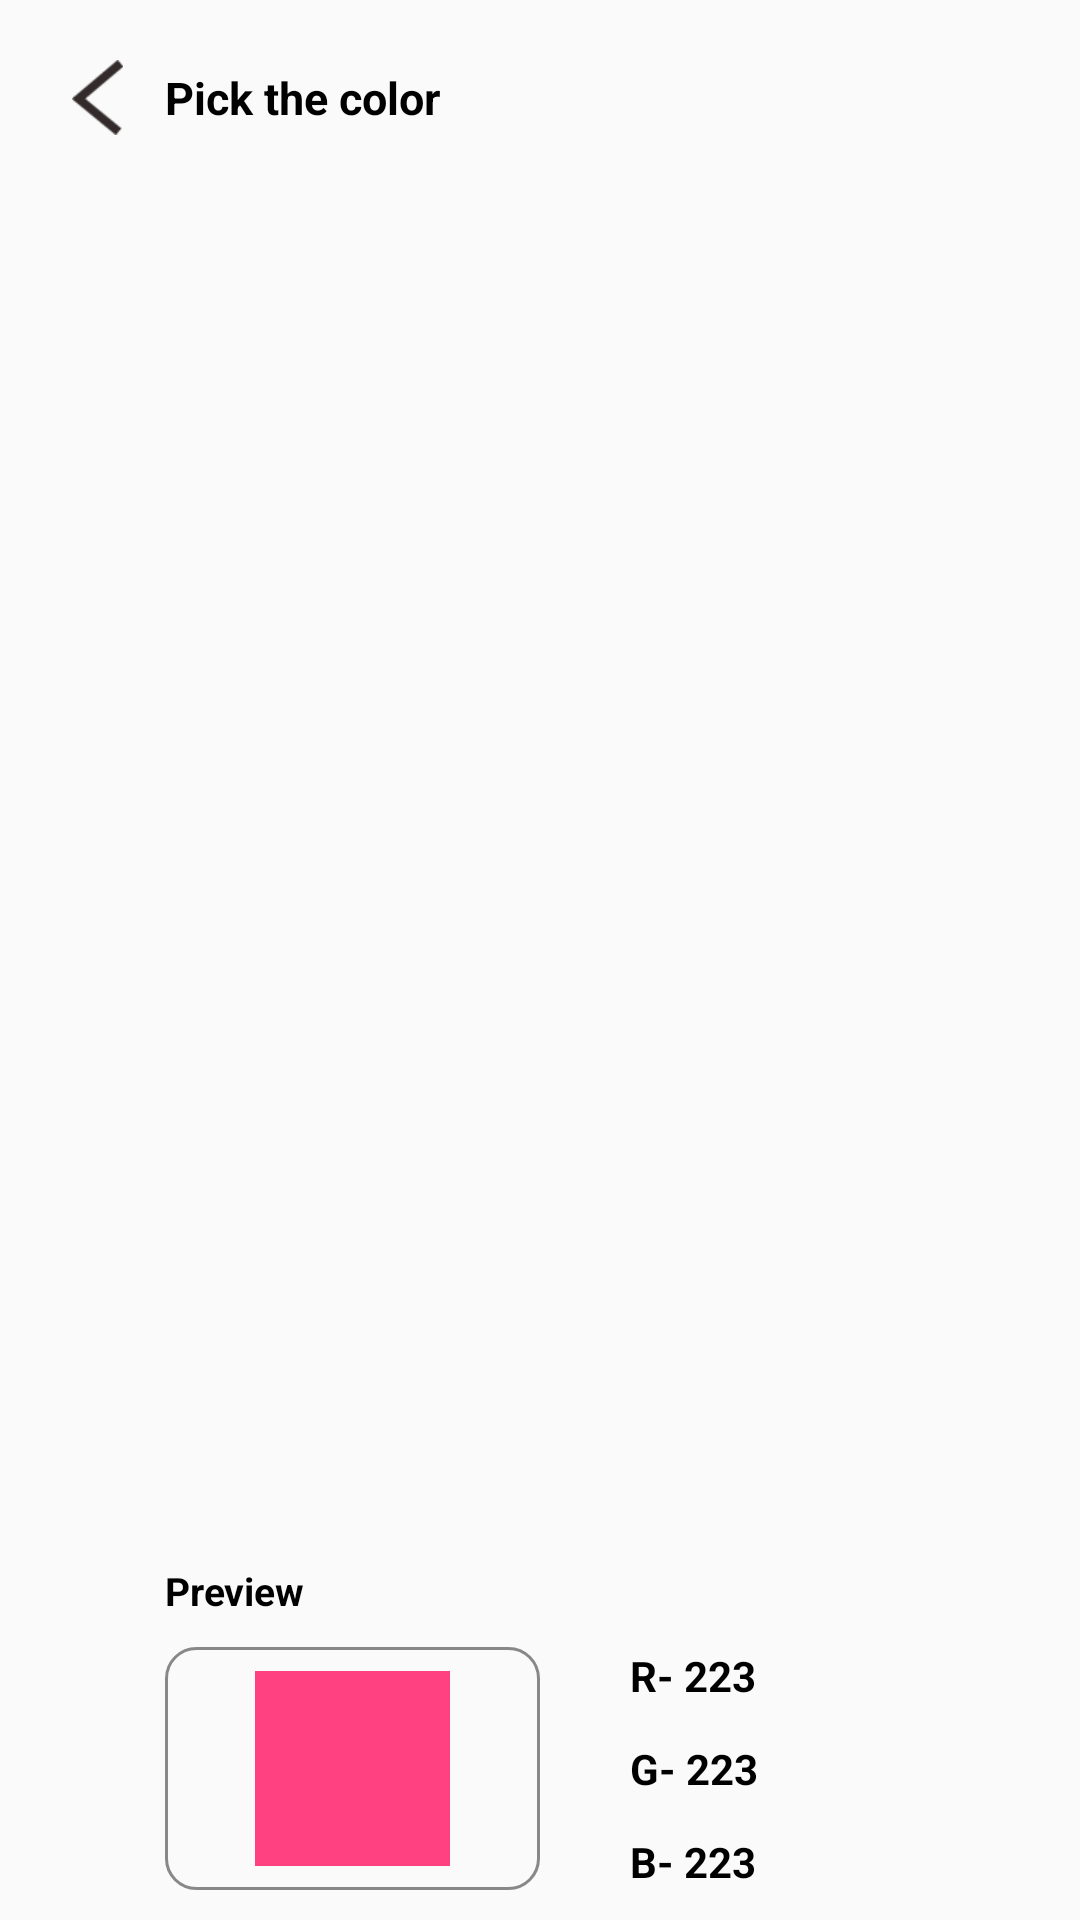

Locate icon controls on the screen. Image size 1080*1920, boxes as box=[x1, y1, x2, y2].
back: box=[72, 60, 123, 135]
